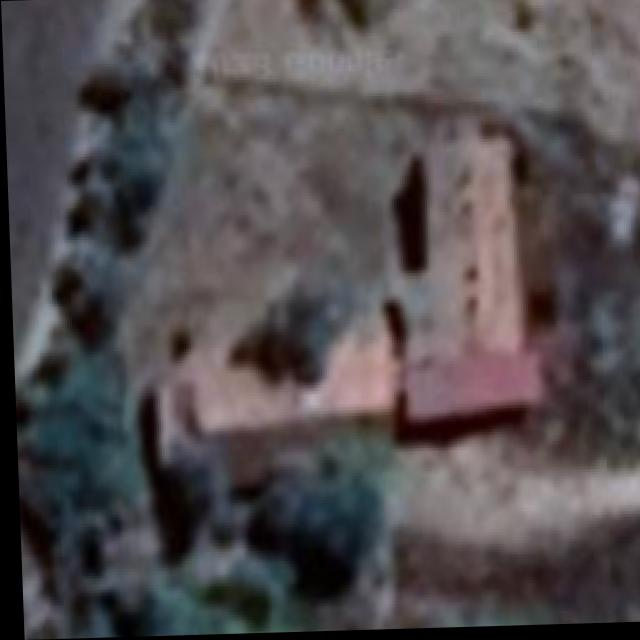Batiment: (383, 118, 537, 446), (191, 315, 392, 434)
